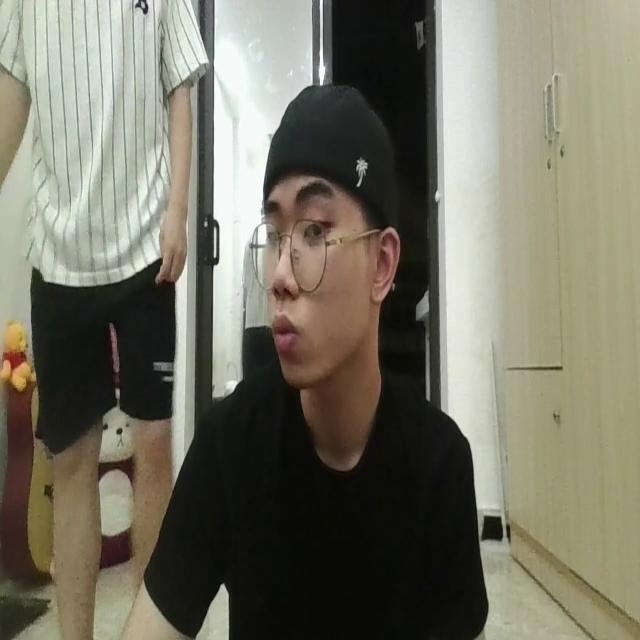extra_person: (0, 0, 212, 640)
student: (176, 86, 488, 640)
